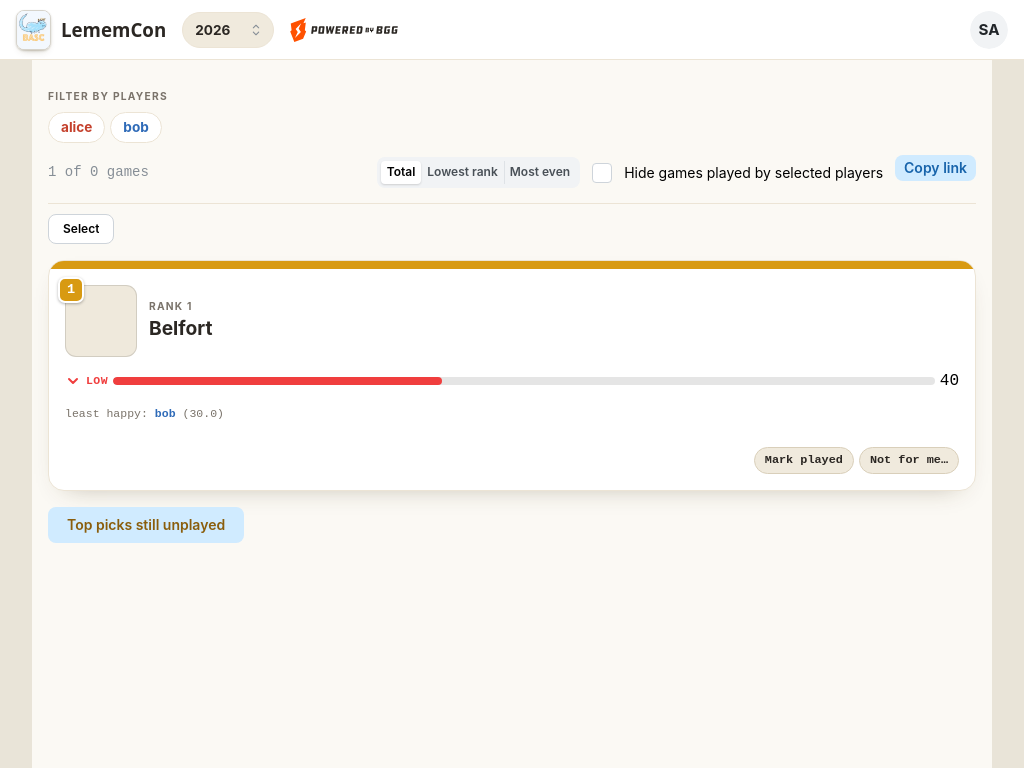
Test: Scoreboard › member vetoes › clears the selection when the year changes
Click the button "Select": (81, 229) top-left (48, 214), bottom-right (114, 244)
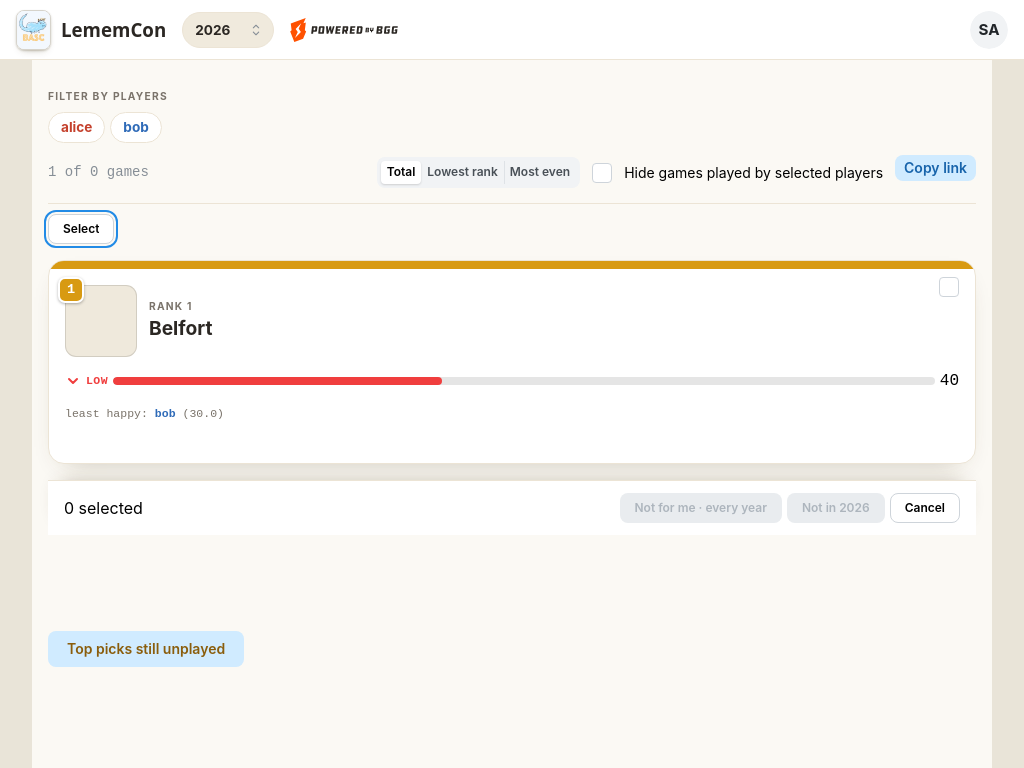
Click the checkbox named "Select Belfort": (949, 287) top-left (939, 277), bottom-right (959, 297)
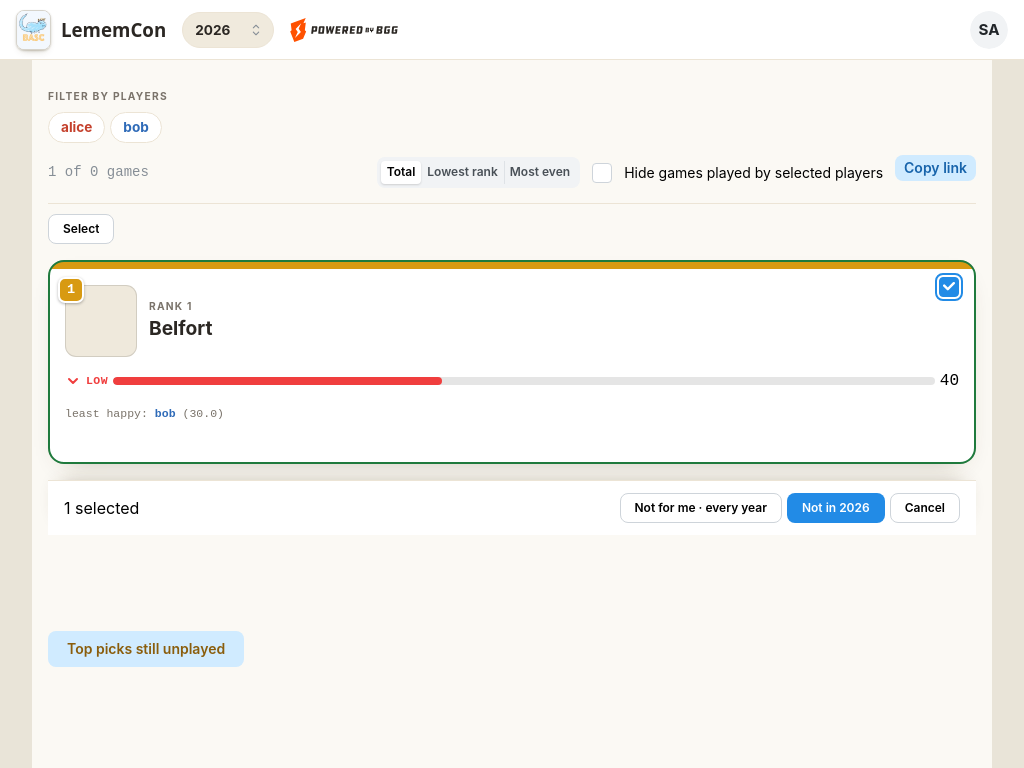
Result: the text "1 selected" is shown at top-left (64, 496), bottom-right (139, 521)
